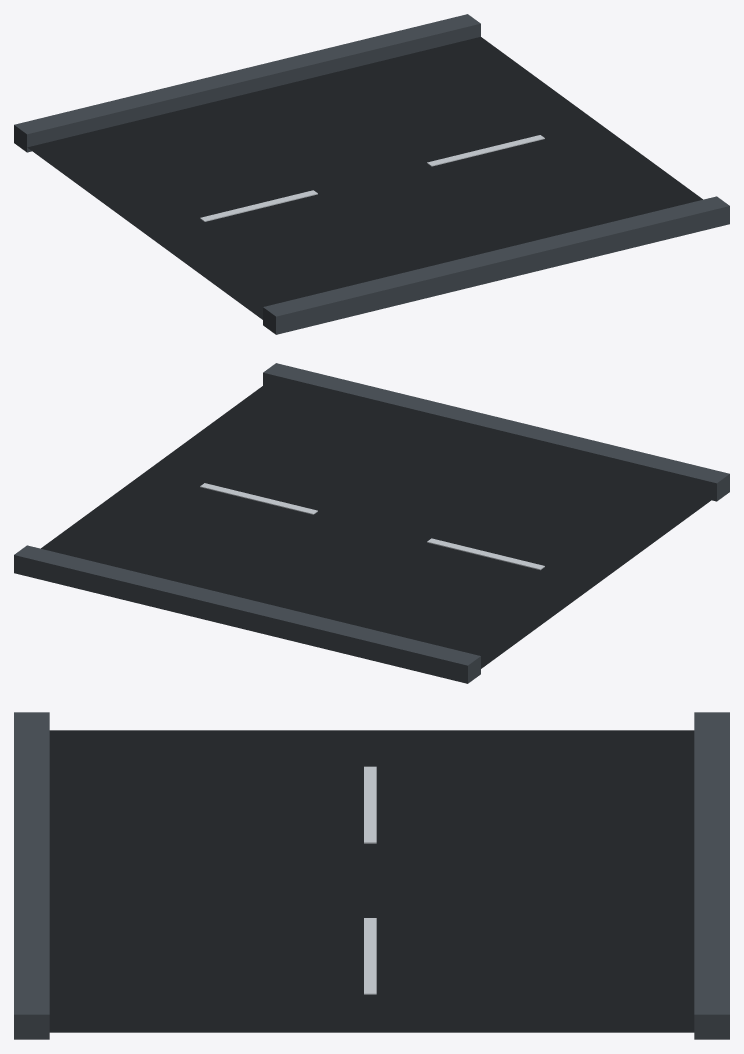
Rendered from Road_Tile_Standard.fbx.
The picture shows the model from 3 angles, top to bottom: view 1: azimuth 30°, elevation 25°; view 2: azimuth 150°, elevation 25°; view 3: azimuth 270°, elevation 25°; orthographic projection. The views are drawn at different scales.
Parts seen in each view (by area): view 1: Plane, Curb, Curb.001, Painted Line.001, Painted Line; view 2: Plane, Curb.001, Curb, Painted Line.001, Painted Line; view 3: Plane, Curb, Curb.001, Painted Line.001, Painted Line.
Part boxes in pixels (x1,y1,x2,y2): Plane: [27, 37, 702, 319]; Curb: [263, 196, 729, 334]; Curb.001: [14, 14, 480, 152]; Painted Line.001: [200, 190, 317, 221]; Painted Line: [427, 135, 544, 166]; Plane: [41, 386, 716, 668]; Curb.001: [14, 545, 480, 683]; Curb: [263, 363, 729, 501]; Painted Line.001: [427, 538, 544, 570]; Painted Line: [200, 483, 317, 514]; Plane: [49, 730, 694, 1032]; Curb: [14, 712, 49, 1039]; Curb.001: [694, 712, 729, 1039]; Painted Line.001: [364, 766, 376, 843]; Painted Line: [364, 918, 376, 994].
Bounding box in the file's own units: 2000 × 76.83 × 2001.
